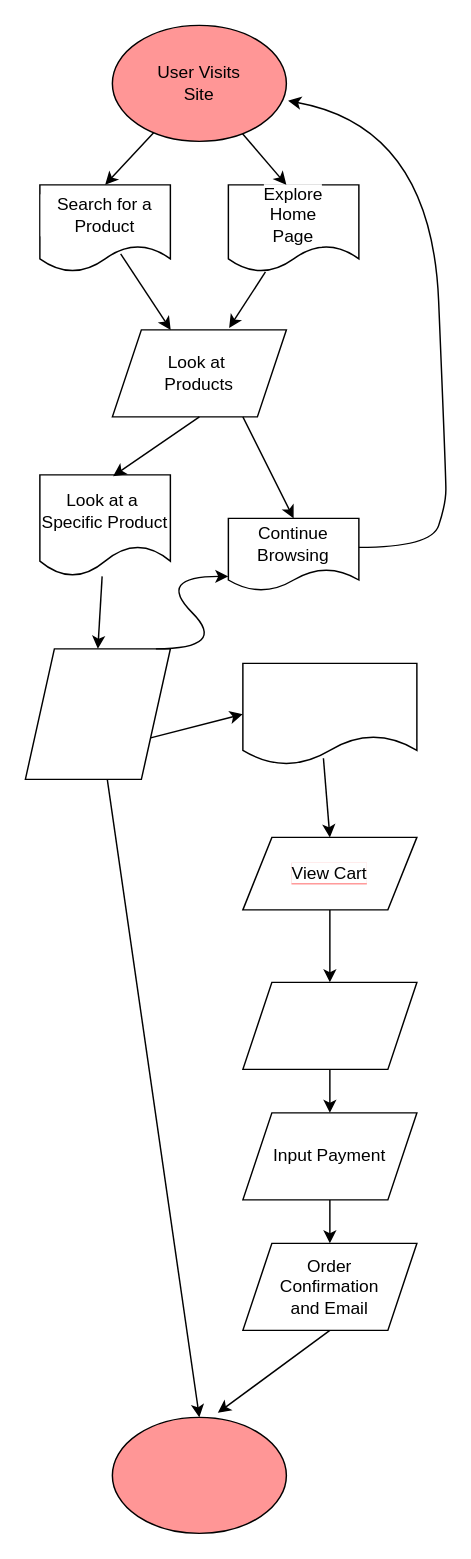
Image size: 471x1559. Some labels were removed from this diagram. The shapes that lost their labels are listed below. From the top down, each one's box as (x1, y1, x2, y2) in pixels, then its label:
(24, 647, 170, 779): Add to Cart Confirmation/ Email
(241, 662, 417, 765): Checkout
(241, 981, 417, 1069): View Payment
(111, 1416, 286, 1533): Leave Site
